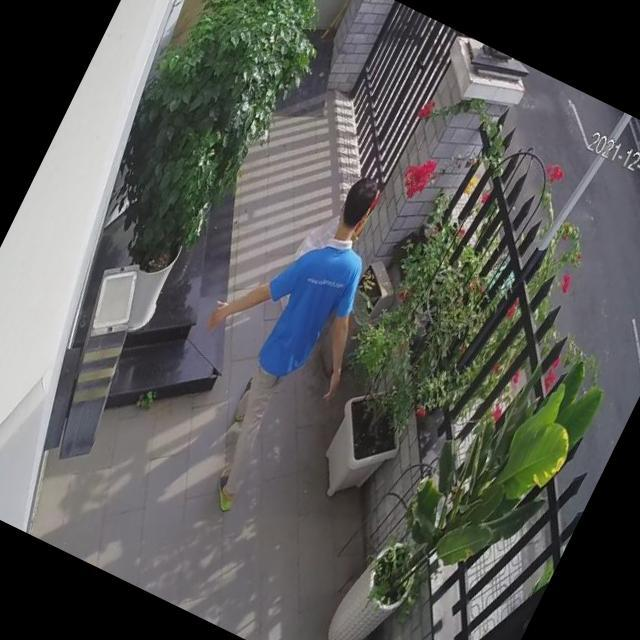person: (134, 138, 428, 530)
